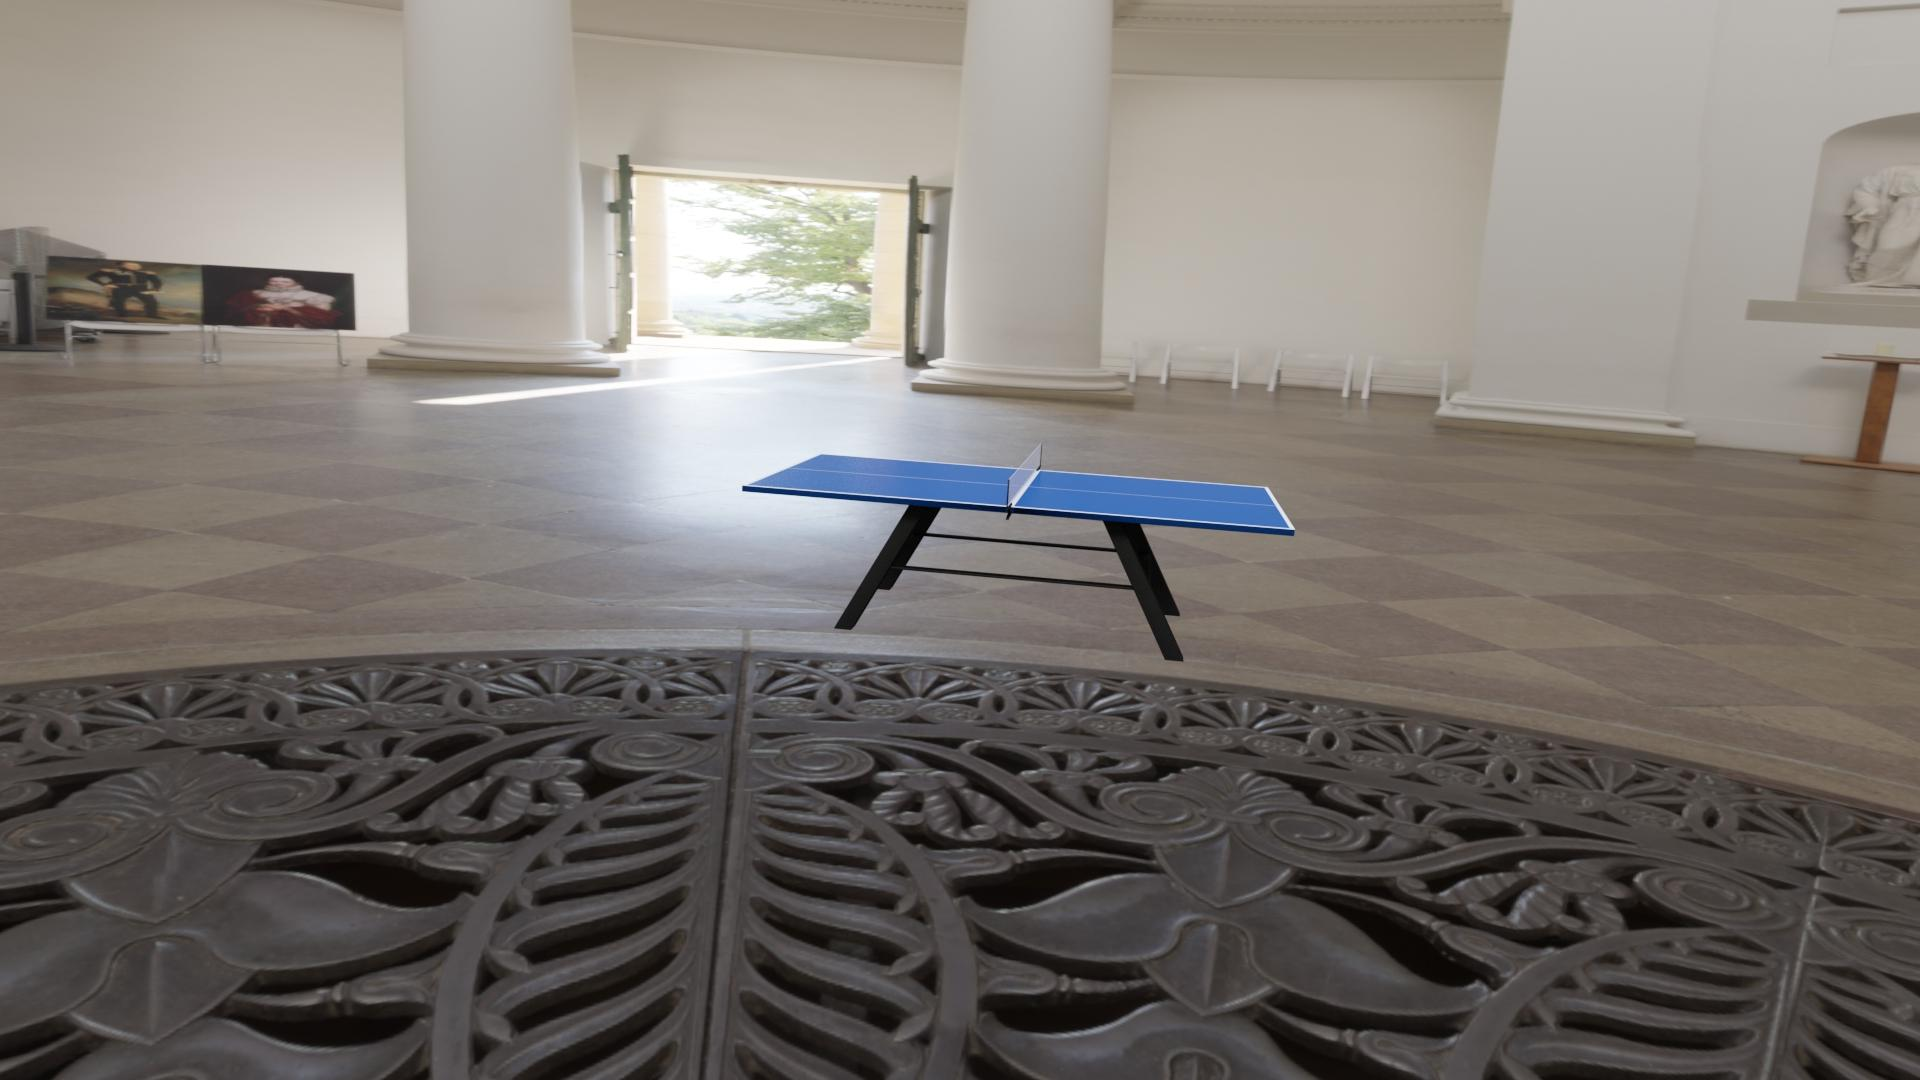table: (747, 454, 1290, 529)
